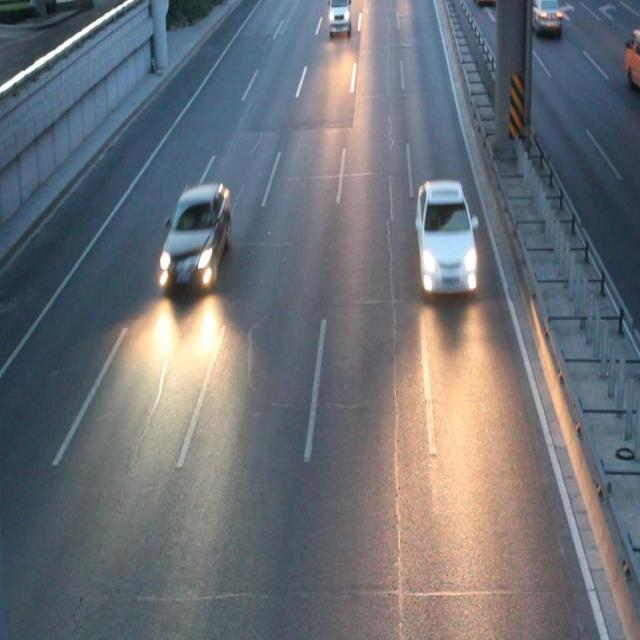car: (160, 184, 229, 285), (417, 179, 475, 289), (524, 1, 561, 31)
truck: (622, 32, 640, 90), (328, 1, 350, 33)
